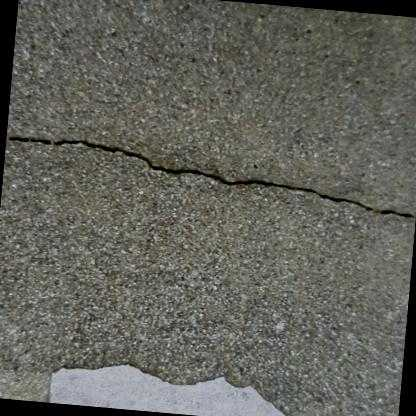crack: (7, 136, 415, 219)
